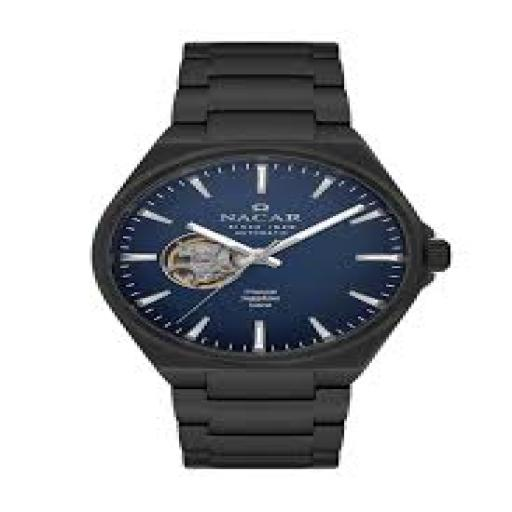KolSaati: (40, 14, 444, 498)
